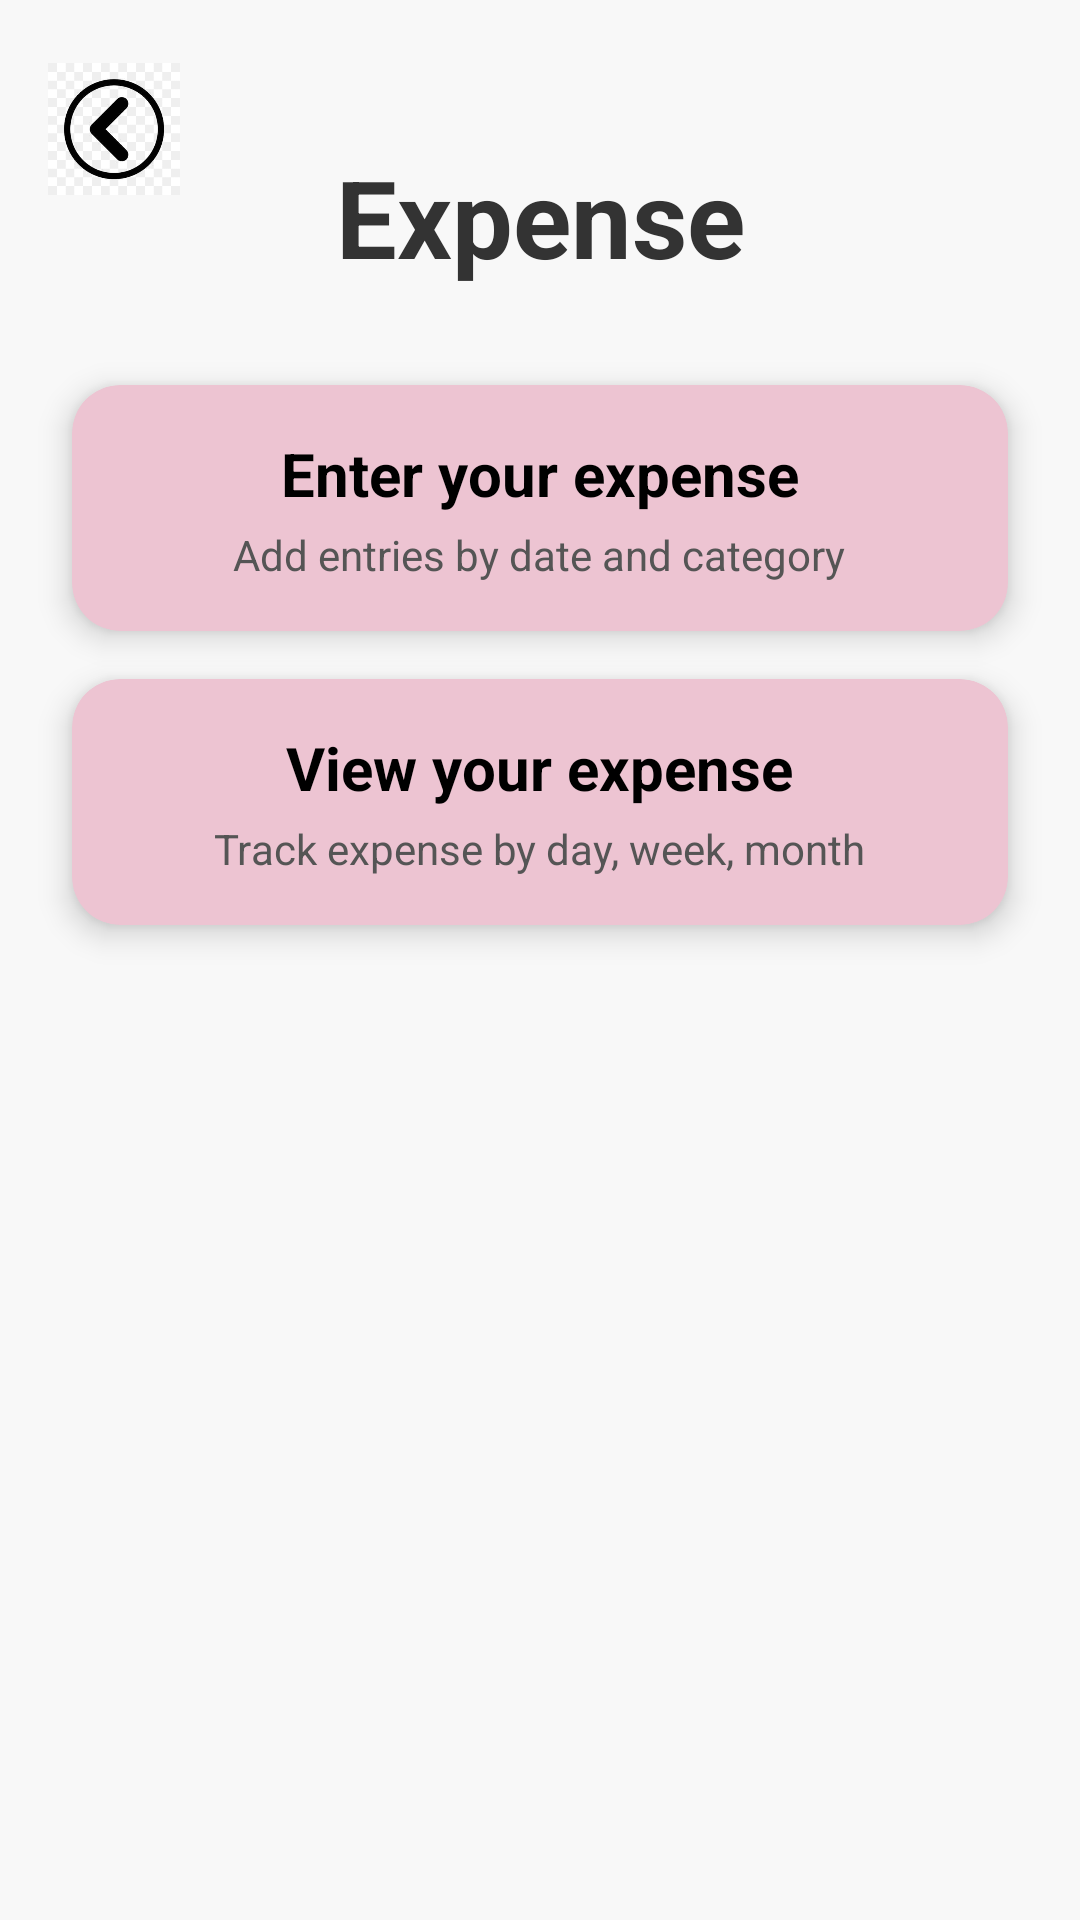

Named icons in this screenshot (1080×1920) and their centers, (x,y):
back: (114,129)
